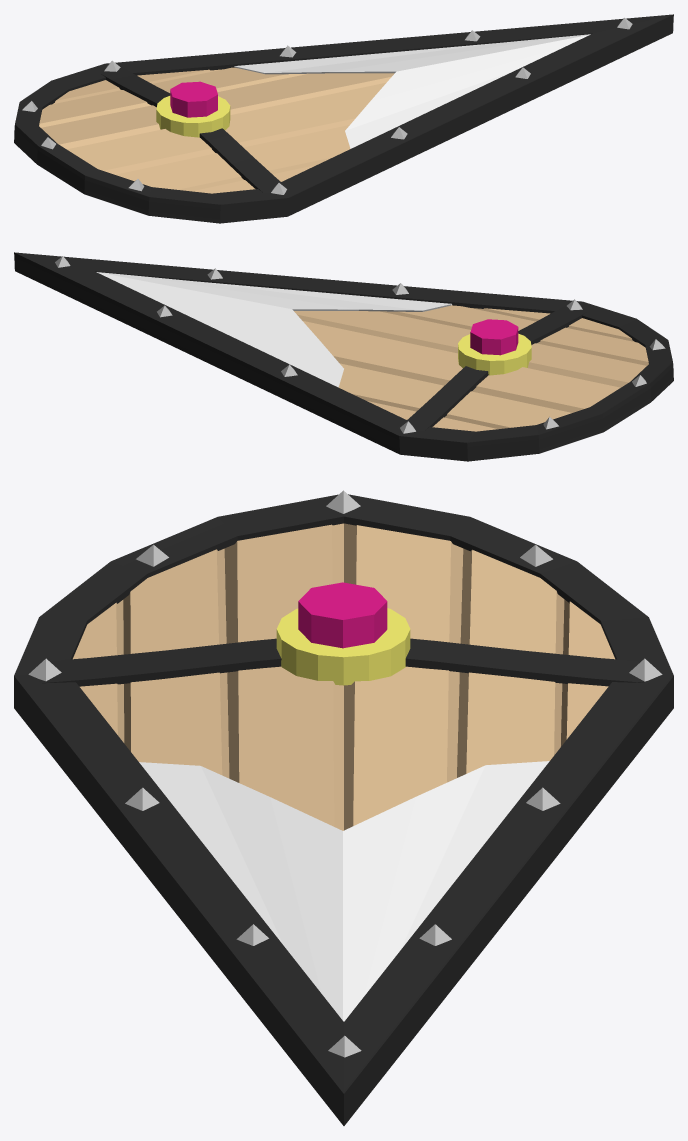
File: Shield_3_d_wood.fbx
The picture shows the model from 3 angles, top to bottom: view 1: azimuth 30°, elevation 25°; view 2: azimuth 150°, elevation 25°; view 3: azimuth 270°, elevation 25°; orthographic projection. The views are drawn at different scales.
Parts seen in each view (by area): view 1: Circle.037, Circle.041, Circle.012, Circle.038, Circle.036, Circle.035; view 2: Circle.037, Circle.041, Circle.012, Circle.038, Circle.036, Circle.035; view 3: Circle.041, Circle.037, Circle.012, Circle.038, Circle.036, Circle.035.
Boxes of the visible parts, <box> form: Circle.037: <box>14,14,673,223</box>; Circle.041: <box>39,67,394,193</box>; Circle.012: <box>234,34,590,148</box>; Circle.038: <box>100,66,290,193</box>; Circle.036: <box>156,96,230,137</box>; Circle.035: <box>170,81,217,117</box>; Circle.037: <box>14,252,673,461</box>; Circle.041: <box>294,305,648,431</box>; Circle.012: <box>96,272,451,387</box>; Circle.038: <box>398,304,587,431</box>; Circle.036: <box>458,333,531,375</box>; Circle.035: <box>470,319,518,355</box>; Circle.041: <box>73,523,614,830</box>; Circle.037: <box>14,494,673,1125</box>; Circle.012: <box>139,761,549,1021</box>; Circle.038: <box>38,638,649,686</box>; Circle.036: <box>276,608,410,685</box>; Circle.035: <box>298,582,387,648</box>.
Bounding box in the file's own units: 148 × 19.83 × 74.
